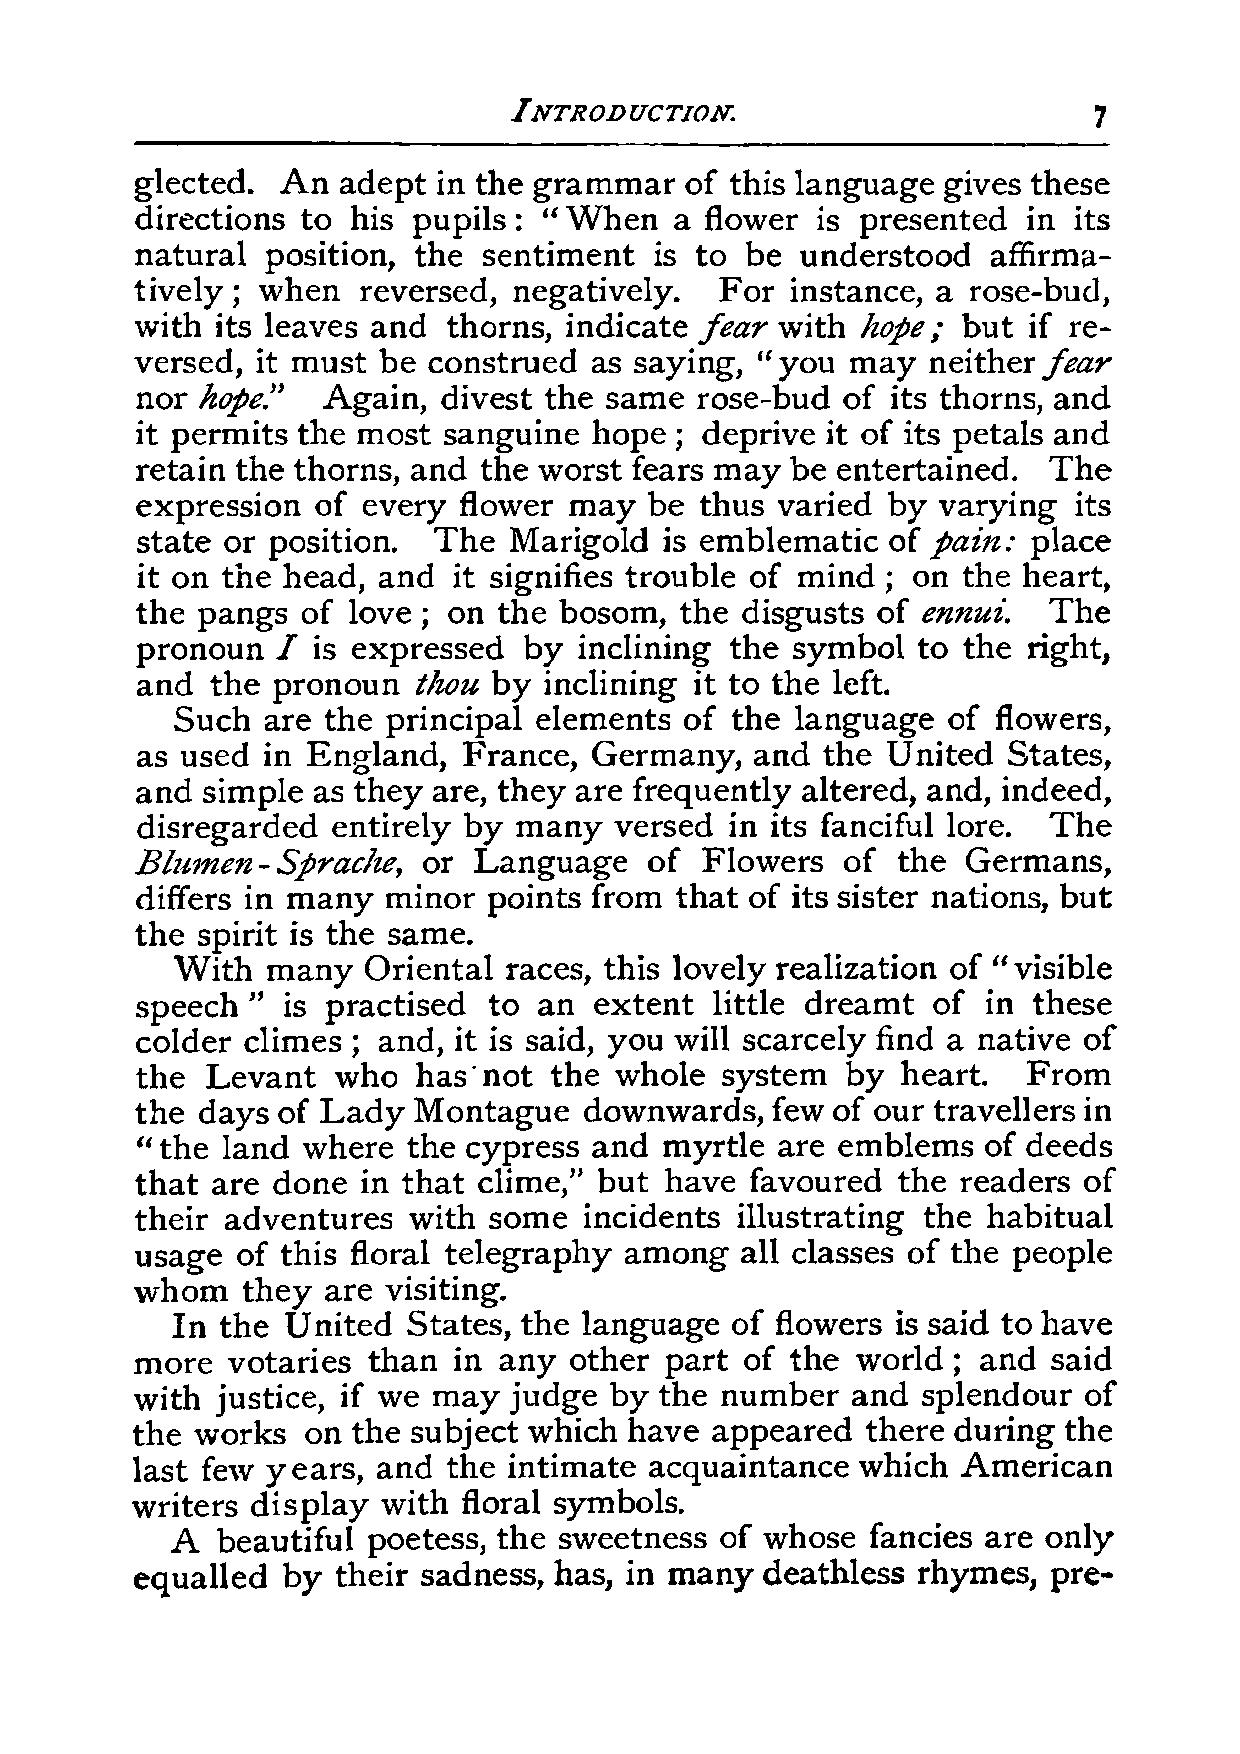content: (129, 162, 1119, 1600)
content_chapter: (505, 94, 737, 126)
content_pagenumber: (1087, 97, 1108, 132)
